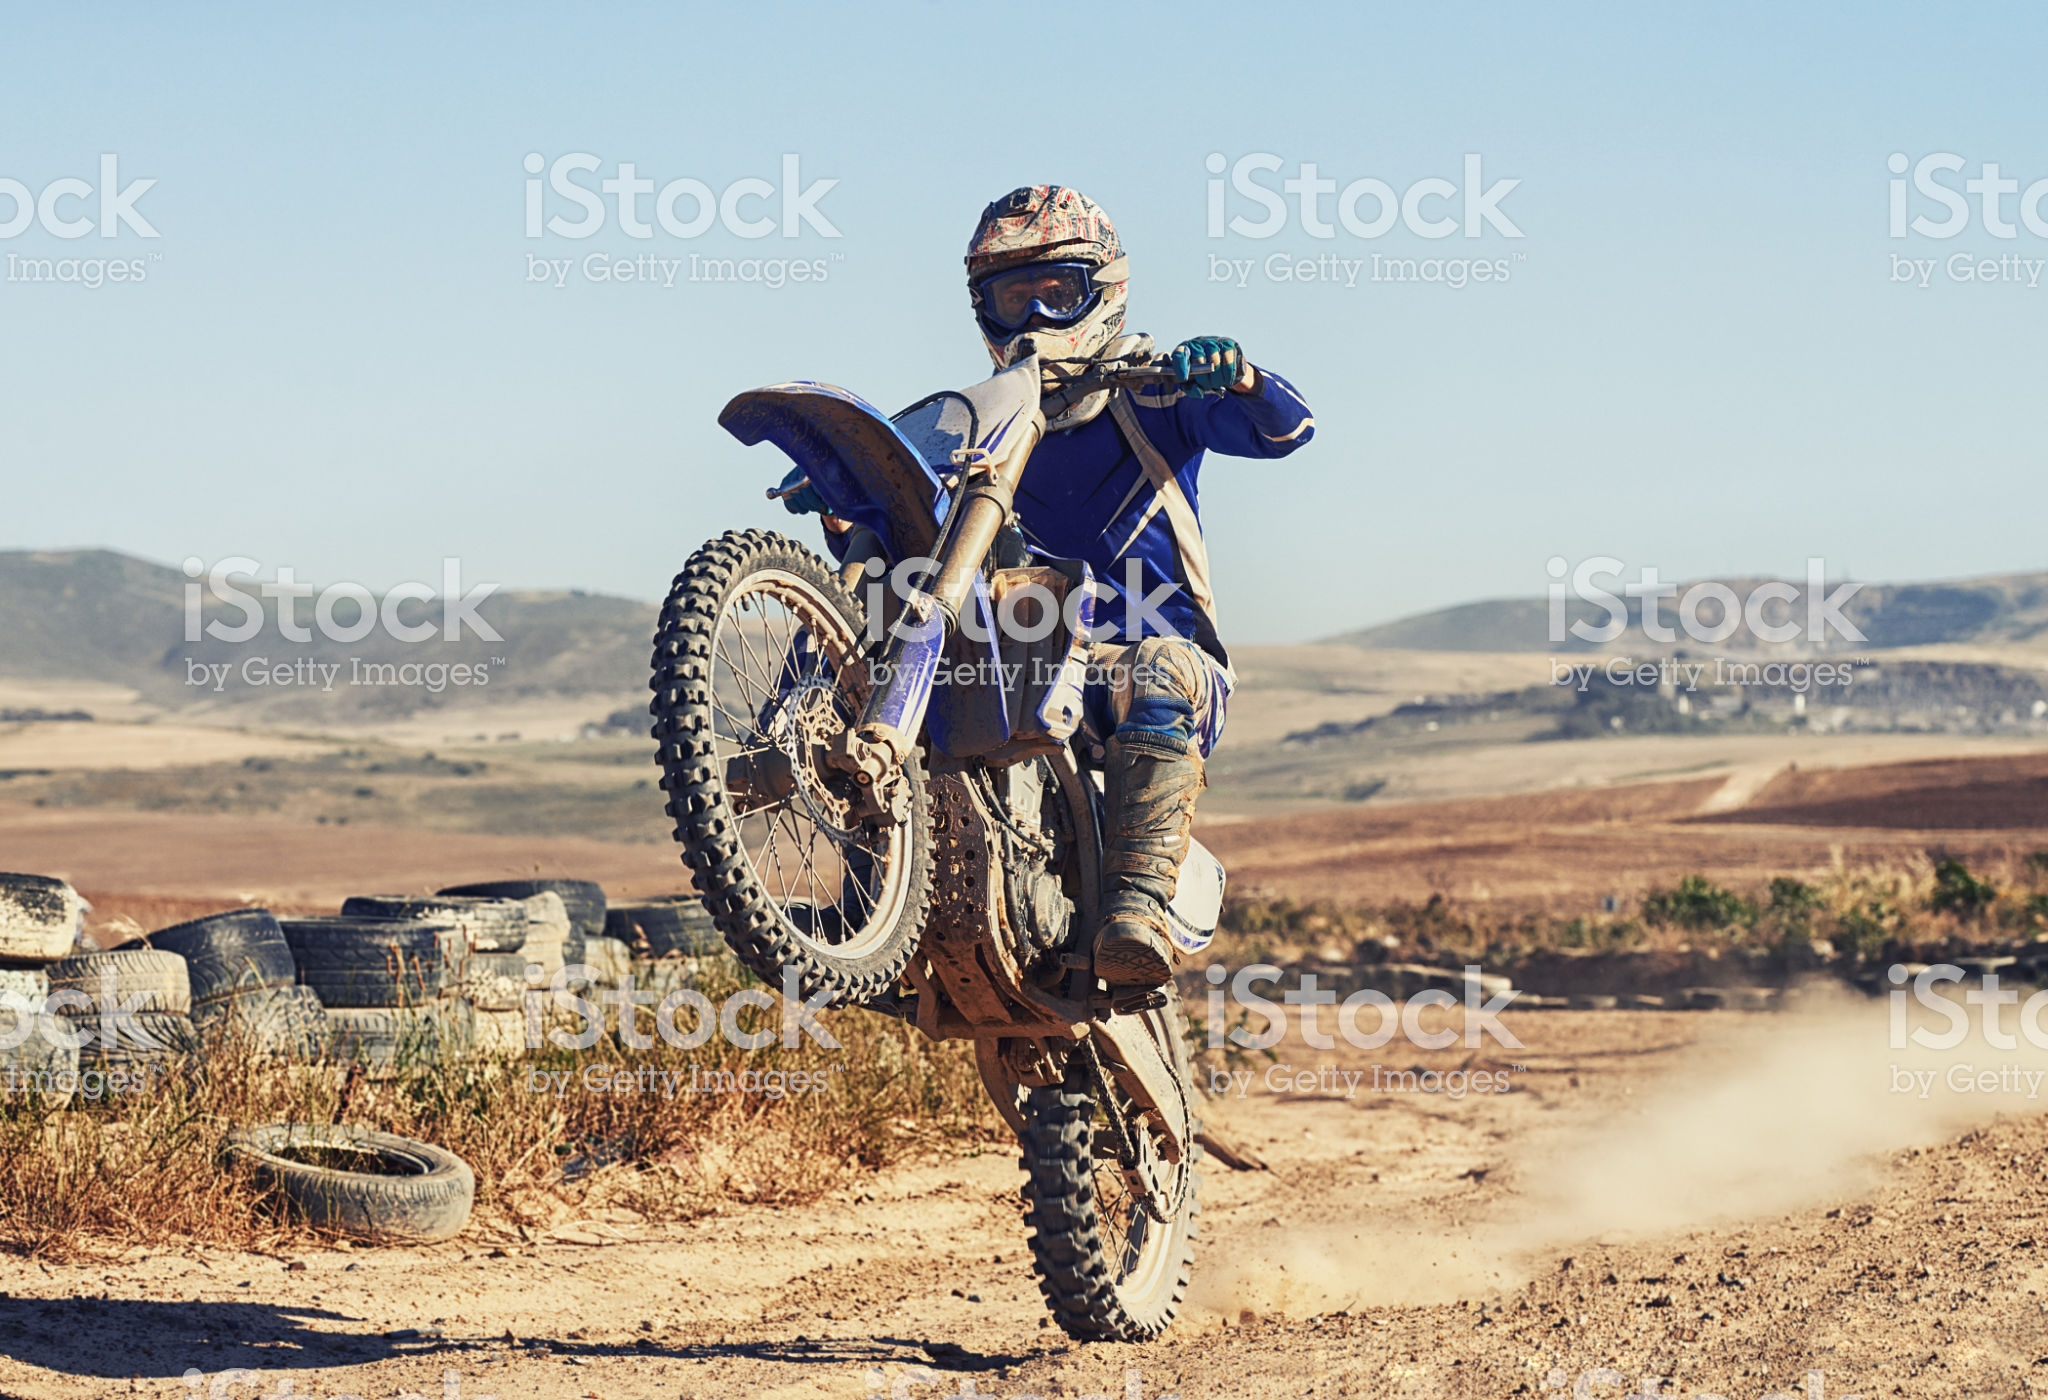helmet: (949, 176, 1134, 394)
